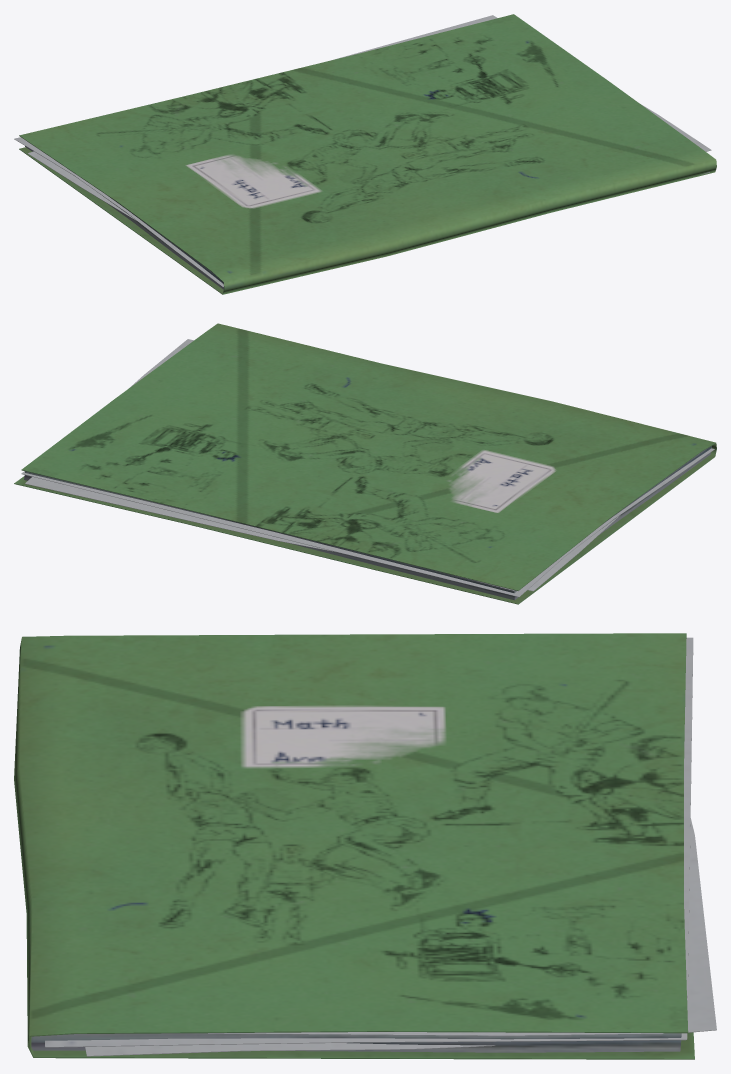
File: SM_Folder_Stack_01d.fbx
3 renders of one model, top to bottom at view 1: azimuth 30°, elevation 25°; view 2: azimuth 150°, elevation 25°; view 3: azimuth 270°, elevation 25°, orthographic. The views are drawn at different scales.
Visible parts, largest first — view 1: SM_Folder_Stack_01d_LOD0; view 2: SM_Folder_Stack_01d_LOD0; view 3: SM_Folder_Stack_01d_LOD0.
Part boxes in pixels (x1,y1,x2,y2): SM_Folder_Stack_01d_LOD0: (14, 14, 716, 294); SM_Folder_Stack_01d_LOD0: (14, 323, 716, 604); SM_Folder_Stack_01d_LOD0: (14, 633, 716, 1059).
Bounding box in the file's own units: 30.96 × 22.17 × 0.8825.
1 material, 1 textured.
